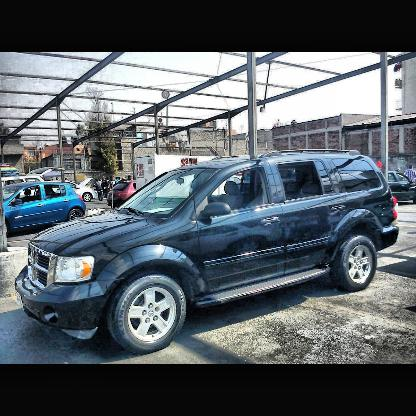Dodge Durango SUV 2007: (17, 151, 400, 353)
